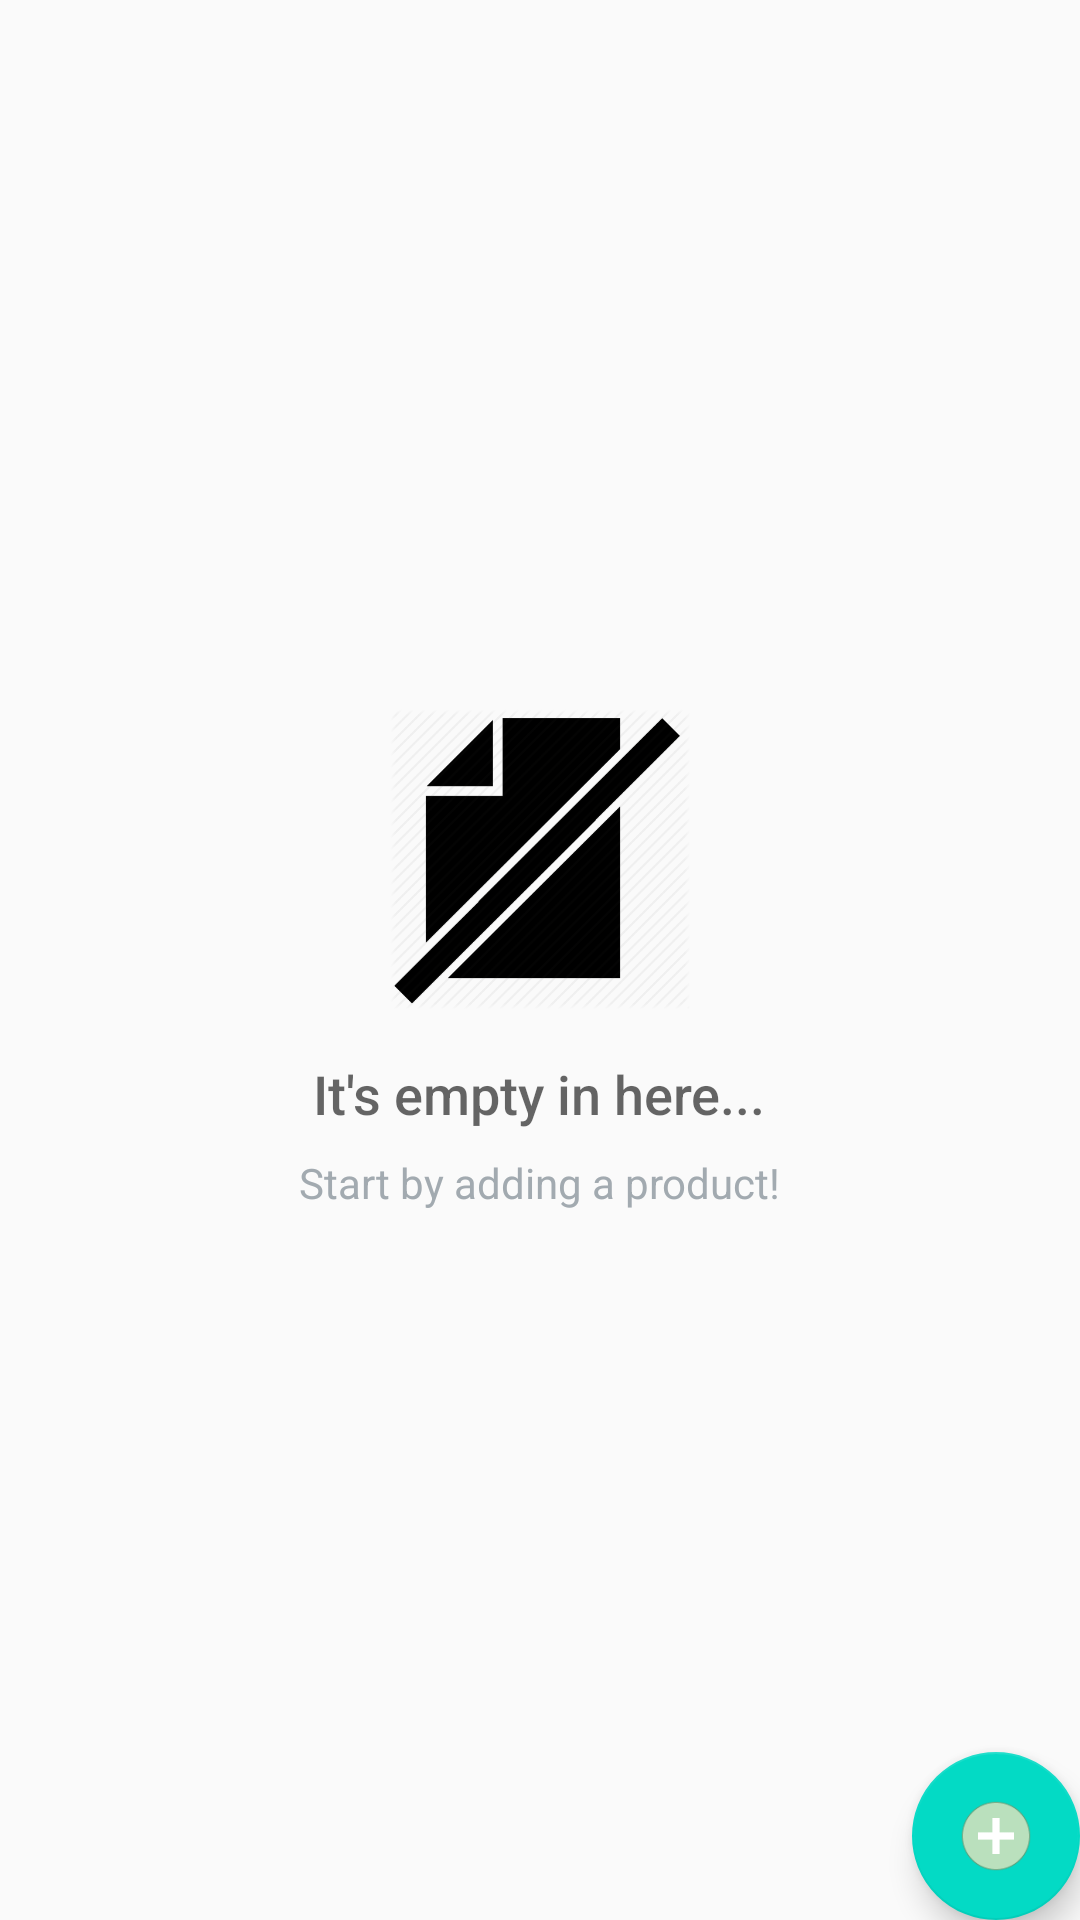

Where to tap for icons on this 1080*1920 app screen, as (x=x, y=y):
add item: (x=996, y=1836)
